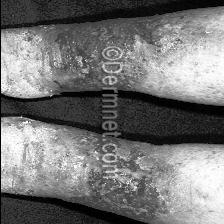Non-Cancerous Skin Condition: (17, 140, 184, 220), (43, 16, 212, 94)
